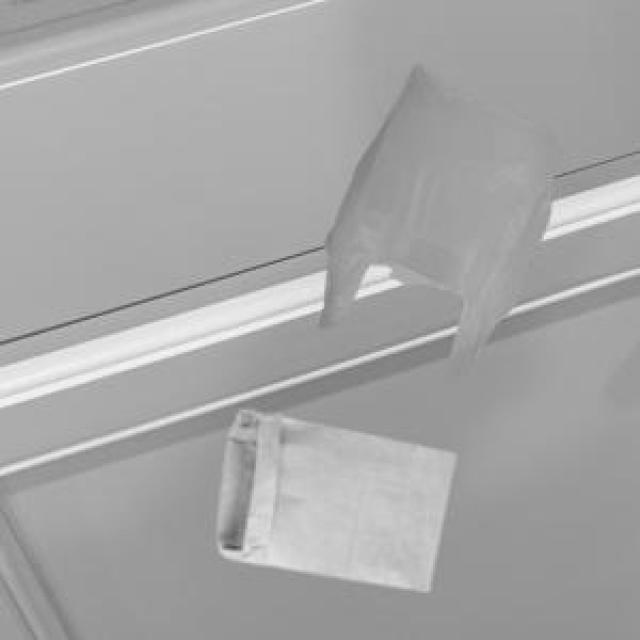paper: (213, 408, 450, 587)
